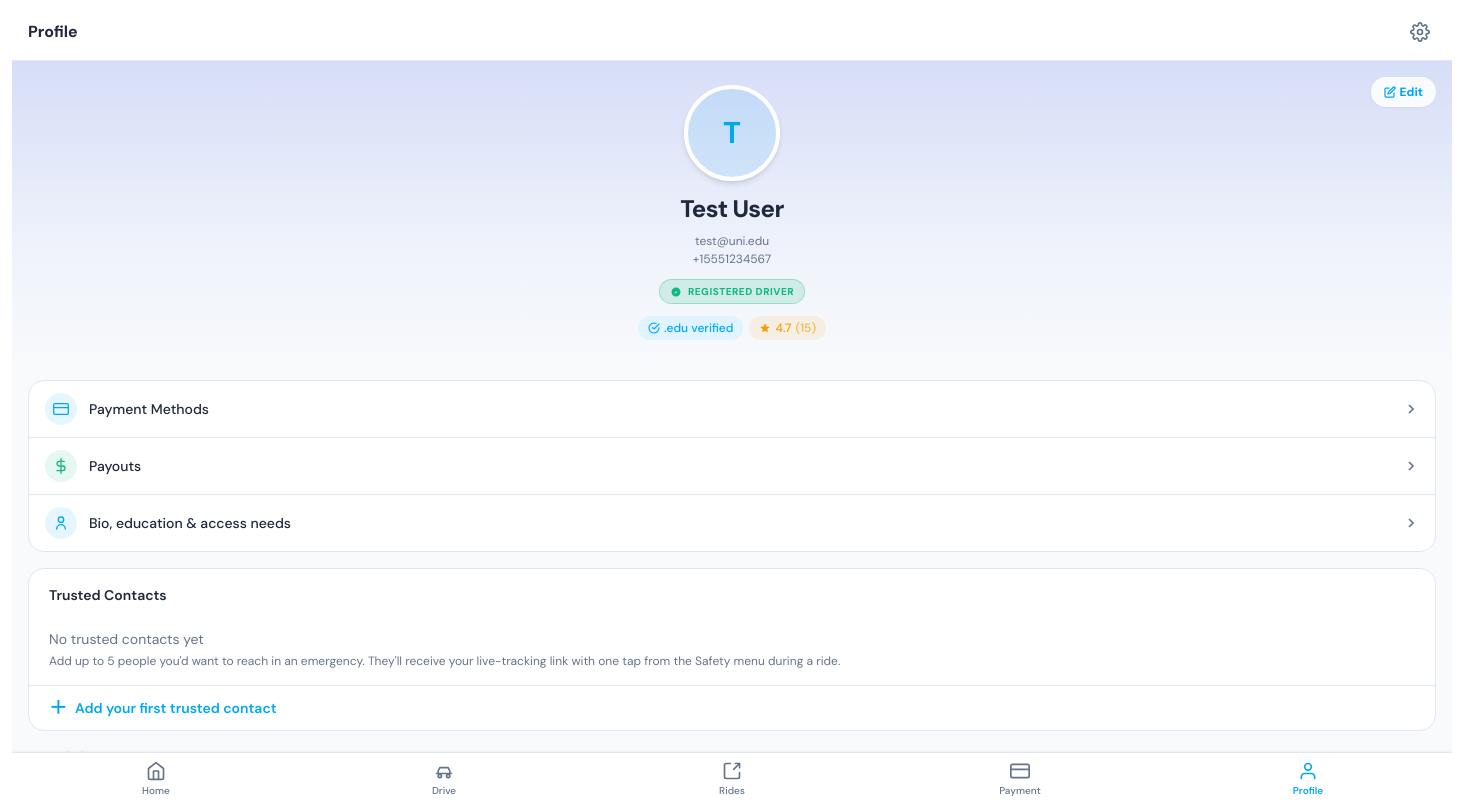
Scenario: ProfilePage › cancel exits edit mode without saving
Click the button with test id "edit-profile-button" at [1403, 92], box [1370,77,1436,107]
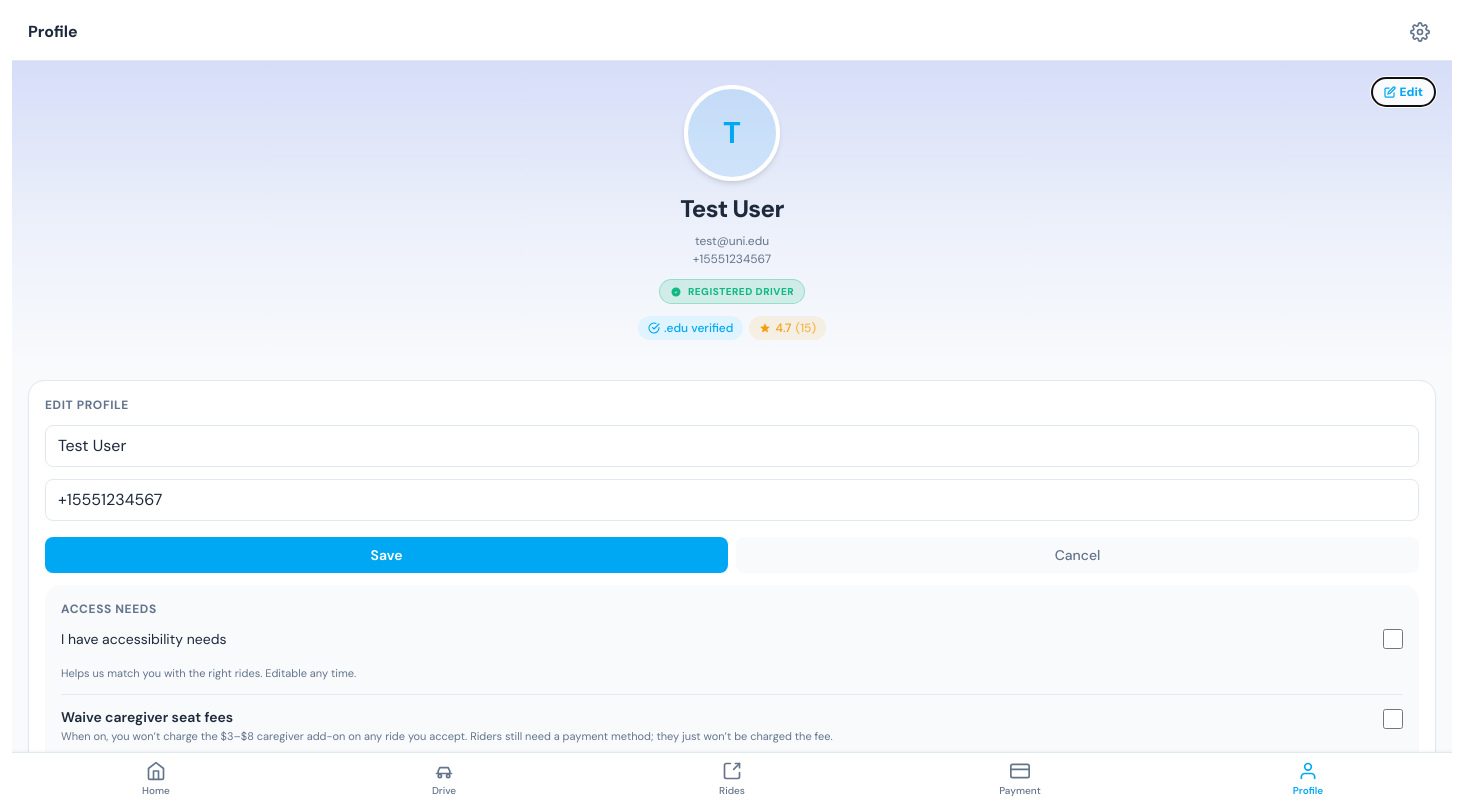
Now the field with test id "edit-name-input" is shown, box [45,425,1419,467]
Click the button with test id "cancel-edit-button" at [1078, 555], box [736,537,1419,573]
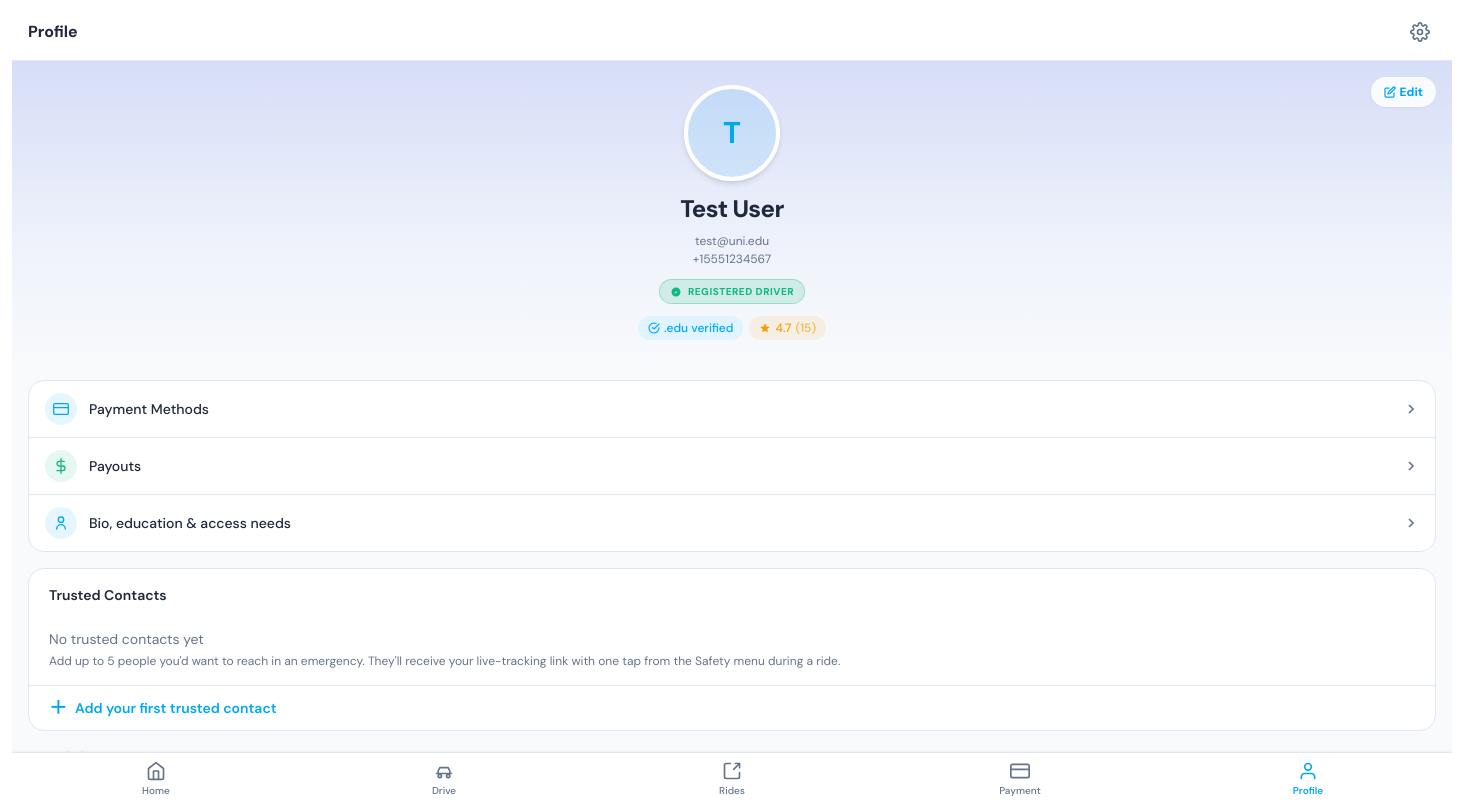
Expected: the heading "Test User" is shown, [680,193,784,225]
Now the field with test id "edit-name-input" is gone
